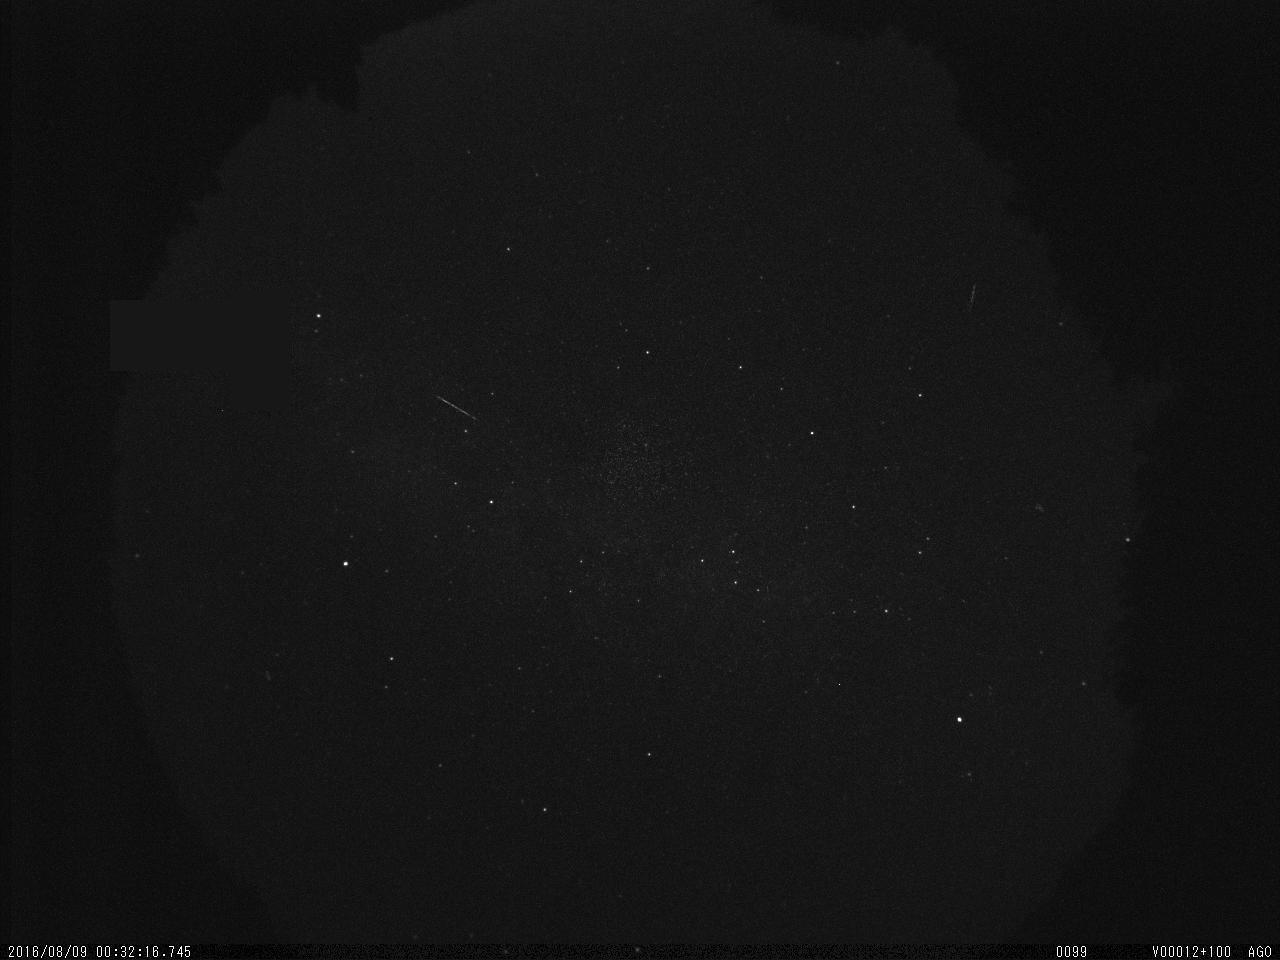meteor: (422, 376, 489, 431)
